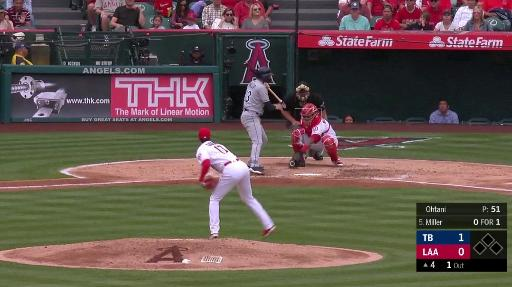pitcher: (196, 127, 276, 239)
